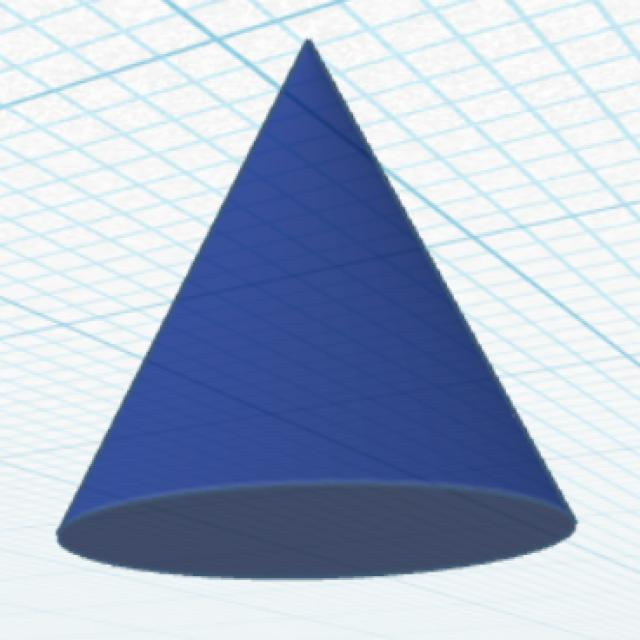cone: (53, 33, 576, 582)
